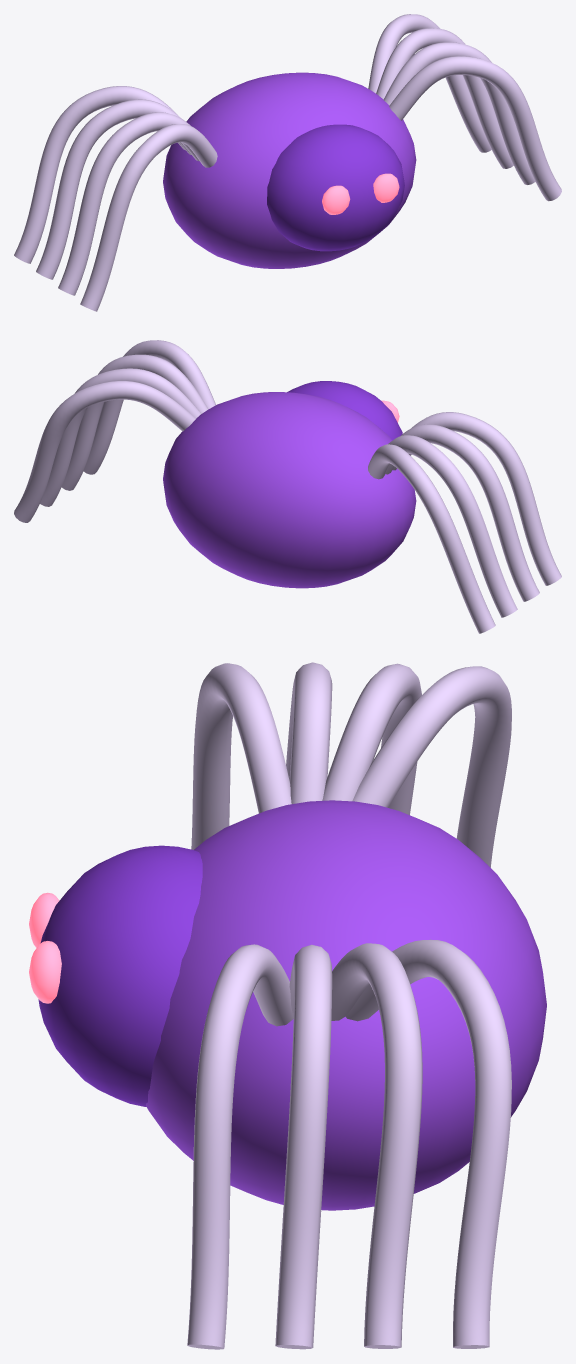
Rendered from pavouk.glb.
3 renders of one model, top to bottom at view 1: azimuth 30°, elevation 25°; view 2: azimuth 150°, elevation 25°; view 3: azimuth 270°, elevation 25°, orthographic. The views are drawn at different scales.
Parts seen in each view (by area): view 1: pavouk_telo, pavouk_hlava, pavouk_noha_m_1_0, pavouk_noha_m_-1_0, pavouk_noha_m_-1_3, pavouk_noha_m_-1_2, pavouk_noha_m_-1_1, pavouk_noha_m_1_2, pavouk_noha_m_1_1, pavouk_noha_m_1_3, pavouk_oko_-1, pavouk; view 2: pavouk_telo, pavouk_noha_m_1_3, pavouk_noha_m_-1_3, pavouk_noha_m_-1_0, pavouk_noha_m_-1_1, pavouk_noha_m_-1_2, pavouk_noha_m_1_1, pavouk_noha_m_1_0, pavouk_noha_m_1_2, pavouk_hlava; view 3: pavouk_telo, pavouk_hlava, pavouk_noha_m_1_3, pavouk_noha_m_1_2, pavouk_noha_m_1_0, pavouk_noha_m_1_1, pavouk_noha_m_-1_3, pavouk_noha_m_-1_0, pavouk_noha_m_-1_2, pavouk_noha_m_-1_1, pavouk, pavouk_oko_-1.
Part boxes in pixels (x1,y1,x2,y2): pavouk_telo: (163,72,416,268); pavouk_hlava: (267,124,404,251); pavouk_noha_m_1_0: (389,56,561,201); pavouk_noha_m_-1_0: (80,124,217,311); pavouk_noha_m_-1_3: (14,86,185,263); pavouk_noha_m_-1_2: (36,99,191,279); pavouk_noha_m_-1_1: (58,112,199,295); pavouk_noha_m_1_2: (376,28,513,168); pavouk_noha_m_1_1: (383,42,535,184); pavouk_noha_m_1_3: (368,14,491,152); pavouk_oko_-1: (322,185,350,214); pavouk: (373,173,399,202); pavouk_telo: (163,392,416,588); pavouk_noha_m_1_3: (14,380,195,522); pavouk_noha_m_-1_3: (368,444,495,633); pavouk_noha_m_-1_0: (409,412,561,585); pavouk_noha_m_-1_1: (393,424,539,601); pavouk_noha_m_-1_2: (385,435,517,617); pavouk_noha_m_1_1: (61,354,208,490); pavouk_noha_m_1_0: (83,340,215,474); pavouk_noha_m_1_2: (40,368,201,506); pavouk_hlava: (287,381,402,440); pavouk_telo: (146,800,546,1210); pavouk_hlava: (38,845,202,1106); pavouk_noha_m_1_3: (345,939,511,1348); pavouk_noha_m_1_2: (331,943,422,1348); pavouk_noha_m_1_0: (187,944,293,1349); pavouk_noha_m_1_1: (275,944,332,1349); pavouk_noha_m_-1_3: (352,666,511,867); pavouk_noha_m_-1_0: (191,663,291,849); pavouk_noha_m_-1_2: (322,663,421,815); pavouk_noha_m_-1_1: (286,662,332,803); pavouk: (29,941,61,1003); pavouk_oko_-1: (29,892,59,947).
Size of the model in its own units: 1.75 by 0.6363 by 0.82.
